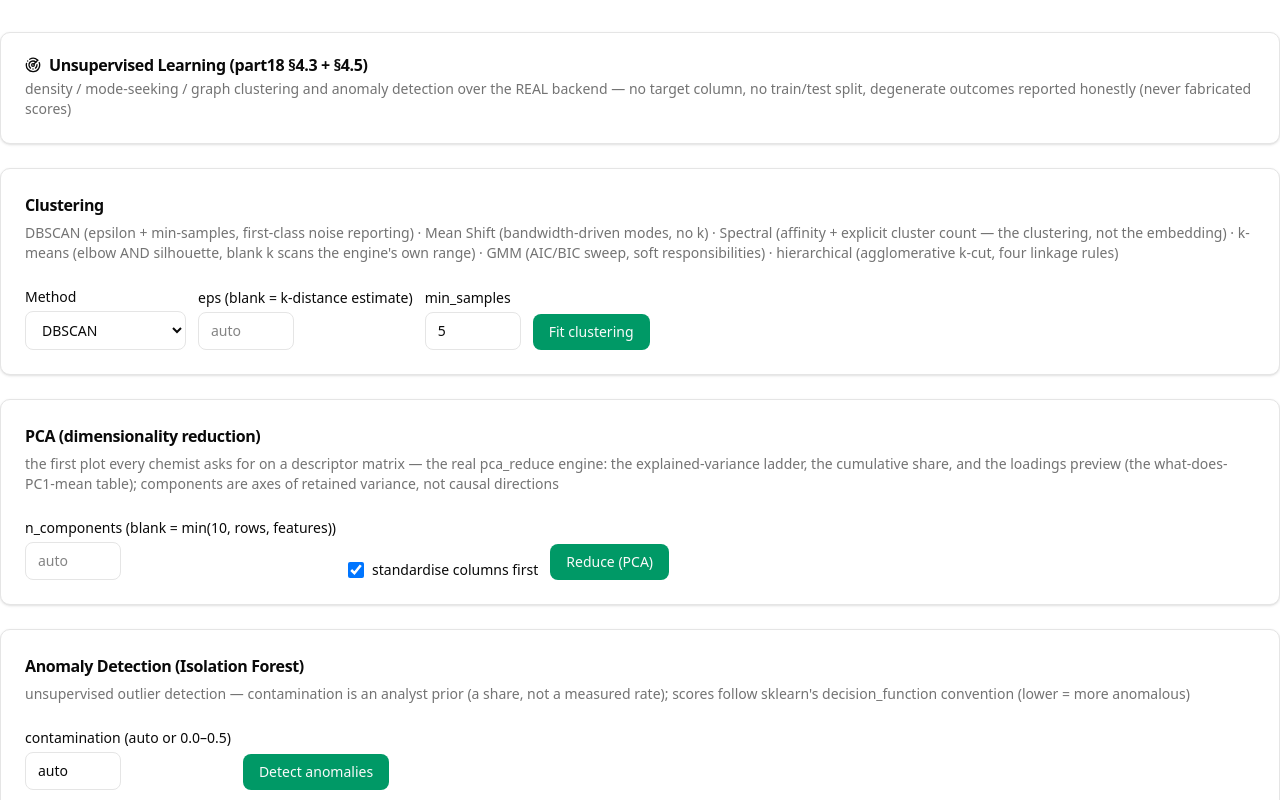
Test: the ML-4 unsupervised families (kmeans / gmm / hierarchical + the pca sibling) › POSTs a manual k verbatim when the k field carries one
The width and height of the screenshot is (1280, 800).
Select "k-means" in the dropdown named "the clustering method". click: (106, 330)
box: [25,311,186,350]
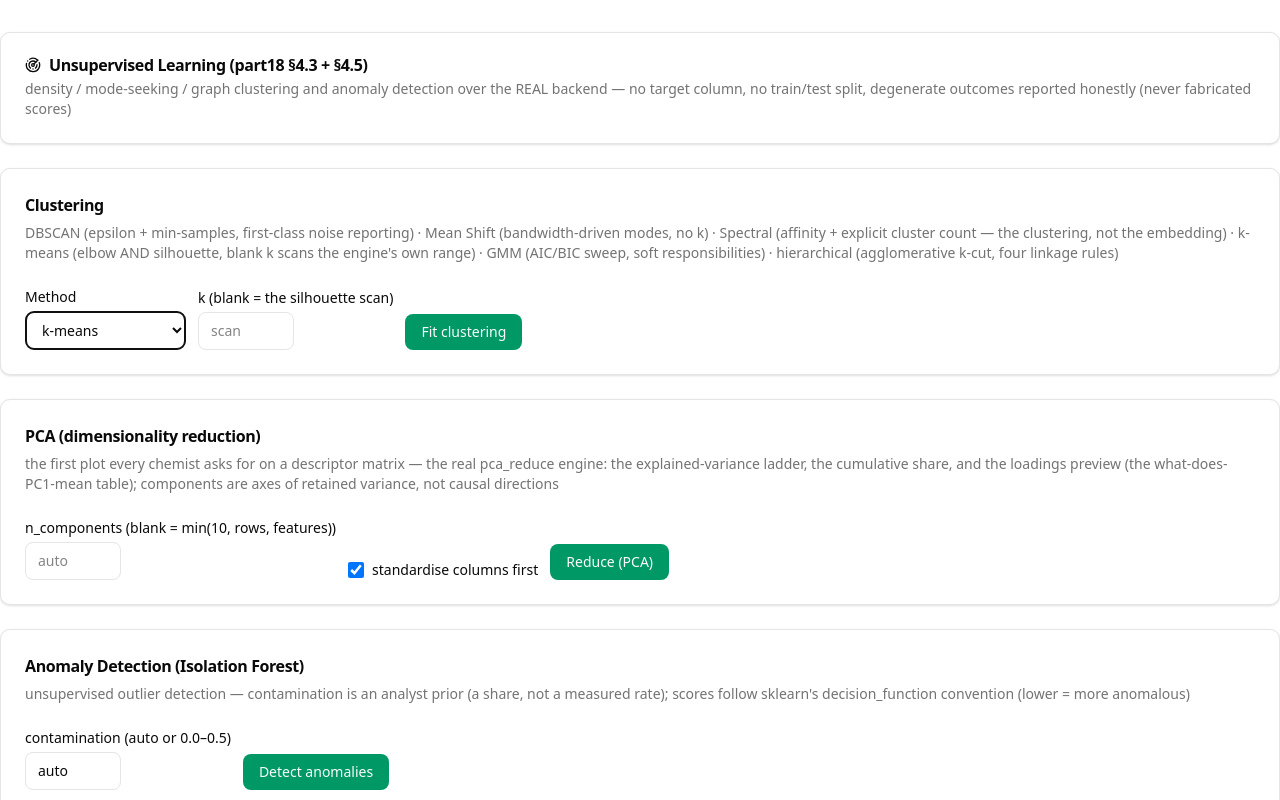
Type "3" into the field named "the k-means k". click: (246, 331)
box: [198,312,294,350]
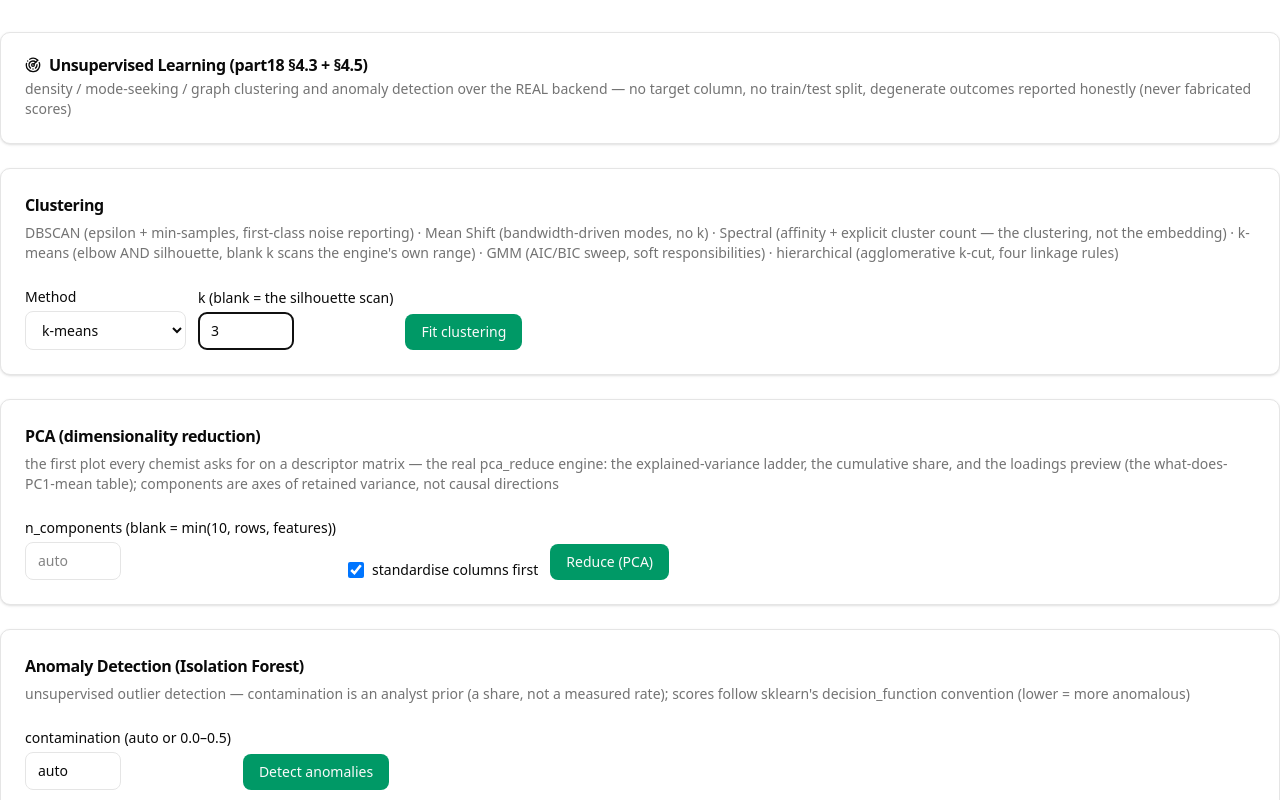
Click the button "Fit clustering". click: (464, 332)
box: [405,314,522,350]
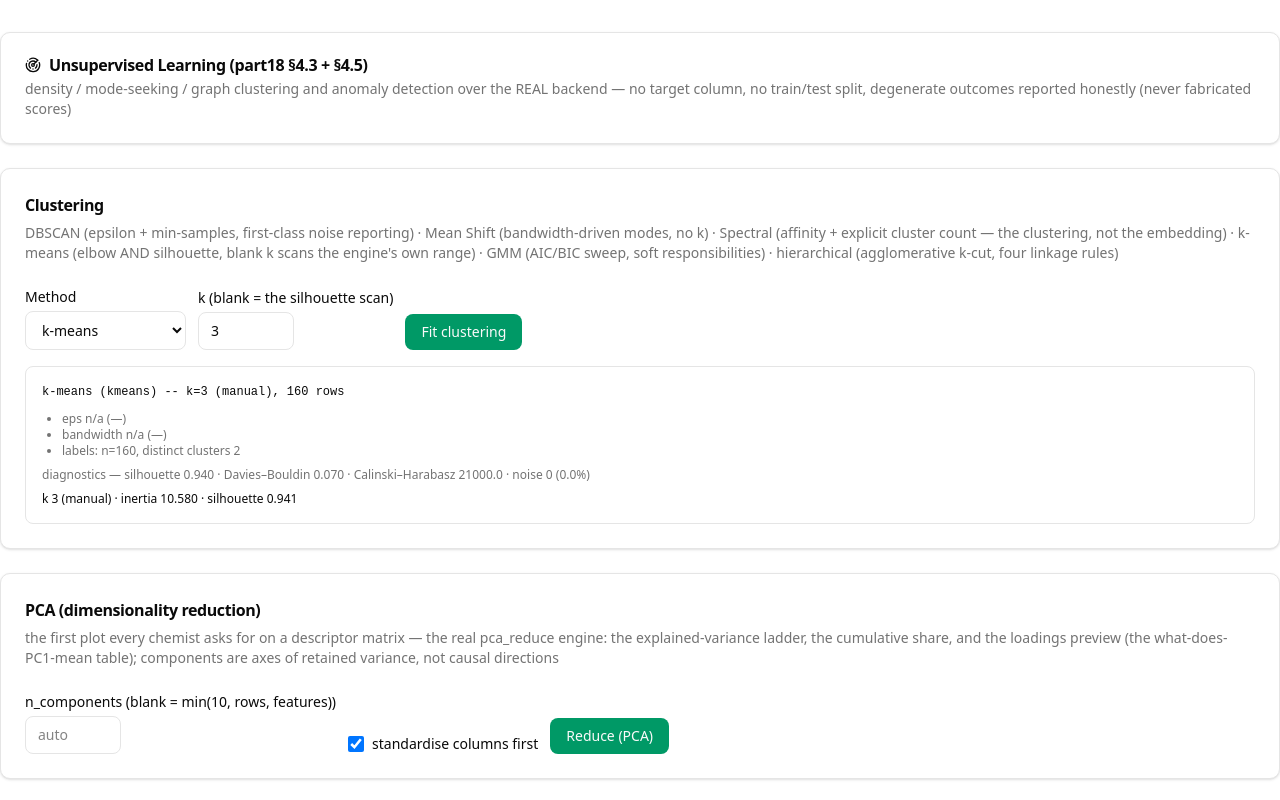
Now the text "k 3 (manual) · inertia 10.580 · silhouette 0.941" is shown, box [42,490,297,506]
